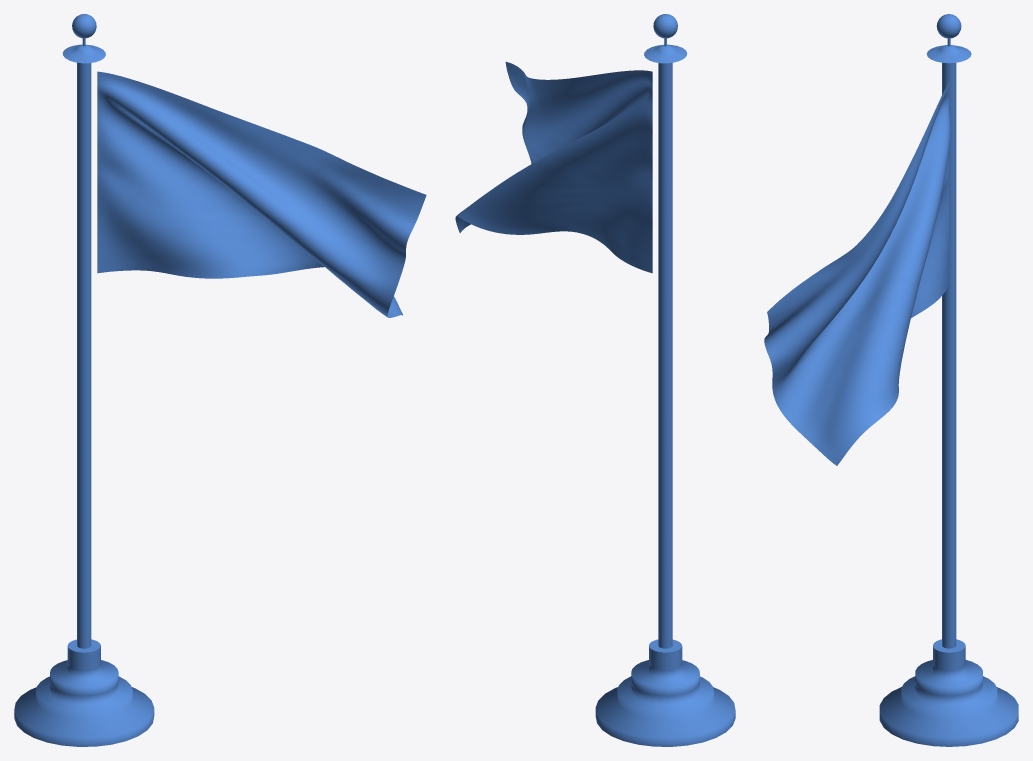
File: USMC flag.obj
3 renders of one model, left to right at view 1: azimuth 30°, elevation 25°; view 2: azimuth 150°, elevation 25°; view 3: azimuth 270°, elevation 25°, orthographic.
Visible parts, largest first — view 1: Plane001, Cylinder001, Cylinder002; view 2: Plane001, Cylinder001, Cylinder002, GeoSphere001, GeoSphere003; view 3: Plane001, Cylinder001, Cylinder002, GeoSphere001, GeoSphere003.
Part boxes in pixels (x1=…): Plane001: x1=97, y1=71, x2=426, y2=317; Cylinder001: x1=14, y1=639, x2=154, y2=746; Cylinder002: x1=77, y1=62, x2=91, y2=648; Plane001: x1=455, y1=62, x2=652, y2=273; Cylinder001: x1=595, y1=639, x2=735, y2=746; Cylinder002: x1=658, y1=62, x2=672, y2=648; GeoSphere001: x1=644, y1=44, x2=687, y2=63; GeoSphere003: x1=653, y1=14, x2=677, y2=38; Plane001: x1=764, y1=81, x2=950, y2=465; Cylinder001: x1=879, y1=639, x2=1018, y2=746; Cylinder002: x1=942, y1=62, x2=956, y2=648; GeoSphere001: x1=926, y1=45, x2=971, y2=63; GeoSphere003: x1=936, y1=14, x2=961, y2=38.
Size of the model in its own units: 75.21 by 157 by 51.43.
